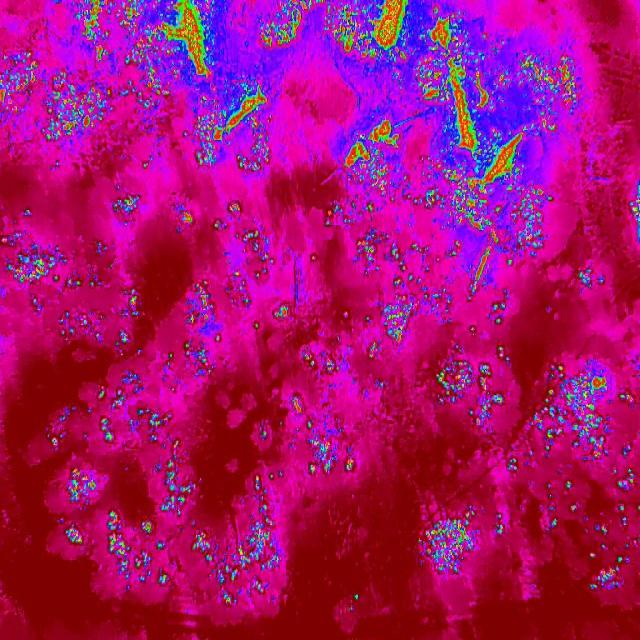fire: (318, 0, 582, 294), (45, 342, 304, 608), (0, 185, 299, 344), (80, 0, 317, 179), (430, 292, 640, 472), (0, 35, 119, 147), (536, 470, 640, 594), (300, 344, 366, 486), (410, 506, 504, 582), (367, 292, 430, 391), (568, 264, 609, 294), (630, 184, 640, 234)
